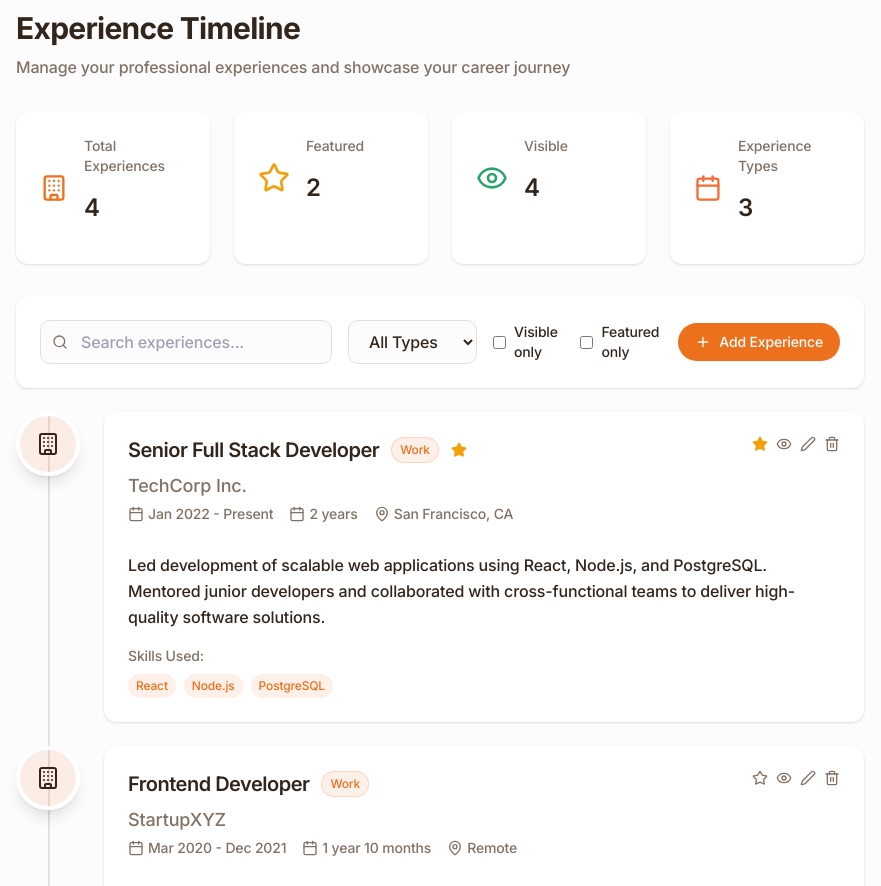
Test: ExperienceTimeline › Search & Filtering › featured only checkbox filters to featured experiences
Expected: the heading "Senior Full Stack Developer" is shown, left=128, top=436, right=379, bottom=464
Click the checkbox labelled "Featured only". click: (587, 342)
box: left=580, top=336, right=593, bottom=348
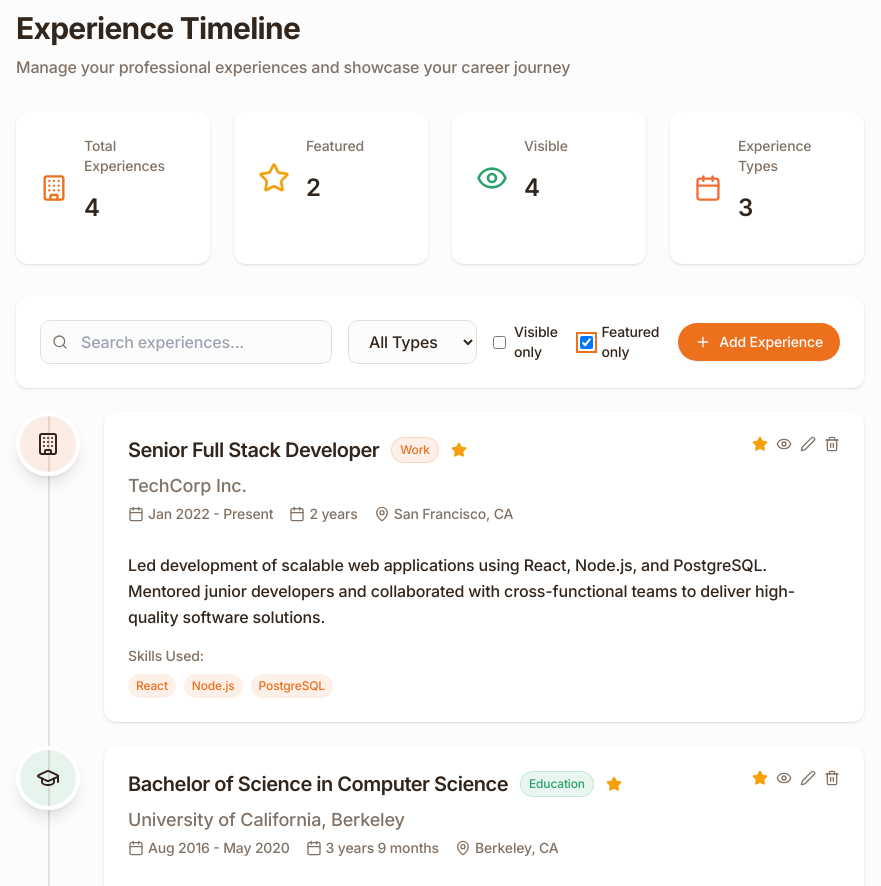
Expected: the heading "Senior Full Stack Developer" is shown, left=128, top=436, right=379, bottom=464
Result: the heading "Frontend Developer" is gone
